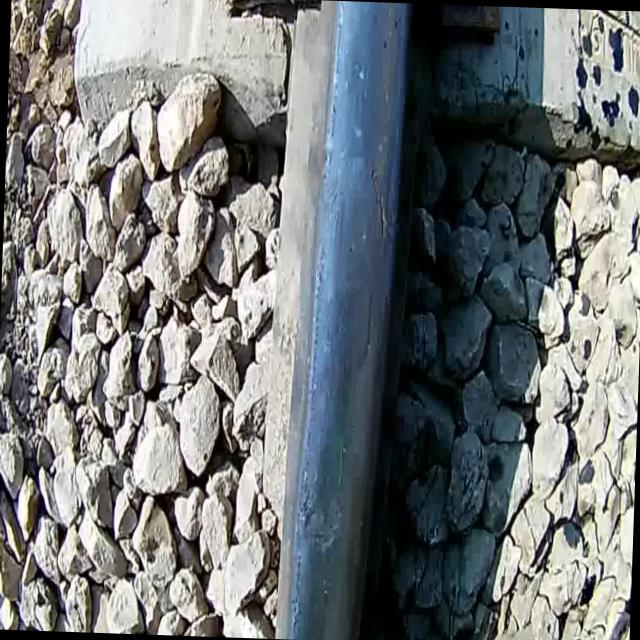Cracks: (340, 147, 415, 267)
Squats: (281, 465, 378, 578)
